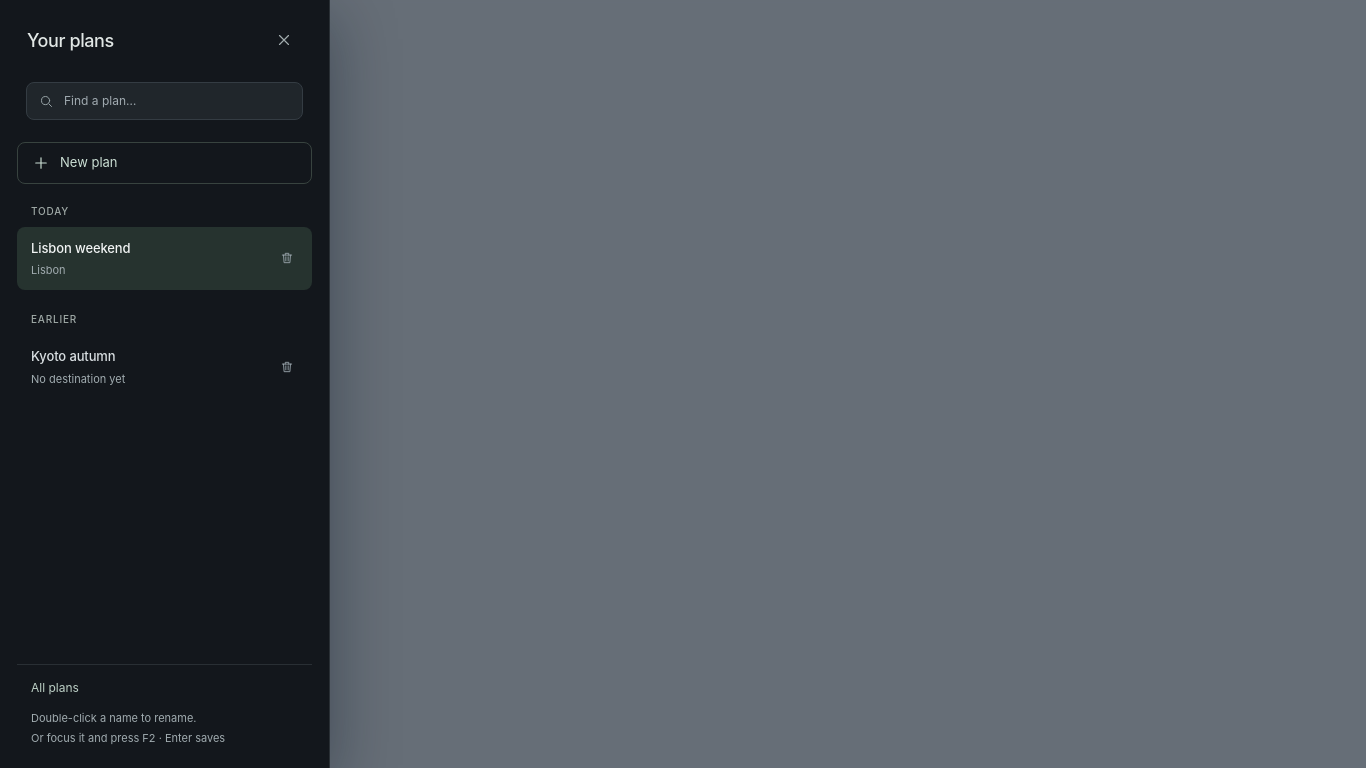
Test: expired authentication and unavailable plans never appear saved
What coordinates should you click on to do the following:
click the button named "Delete Kyoto autumn"
I would click on:
 (287, 367)
Its box is [271,345,303,389].
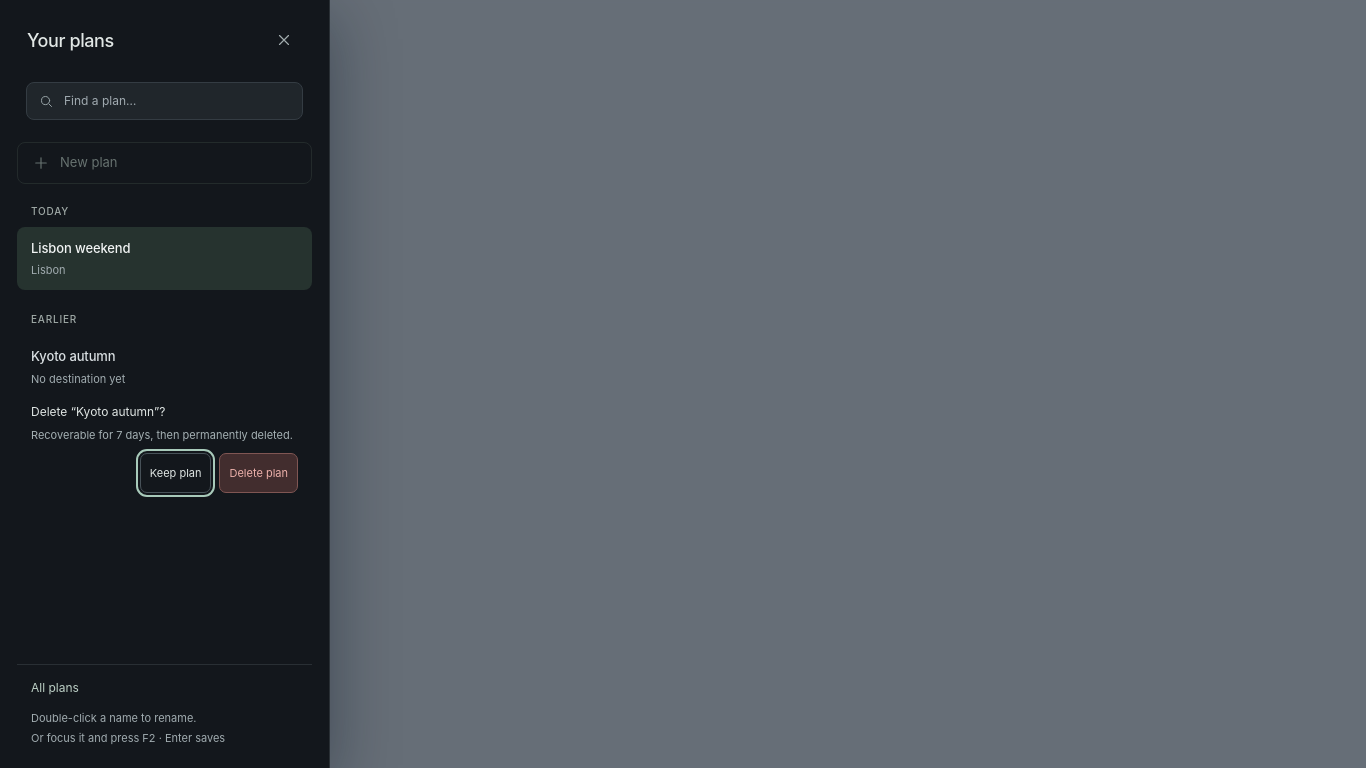
What coordinates should you click on to do the following:
click the button "Delete plan"
I would click on:
 (259, 473)
Its box is [220,453,298,493].
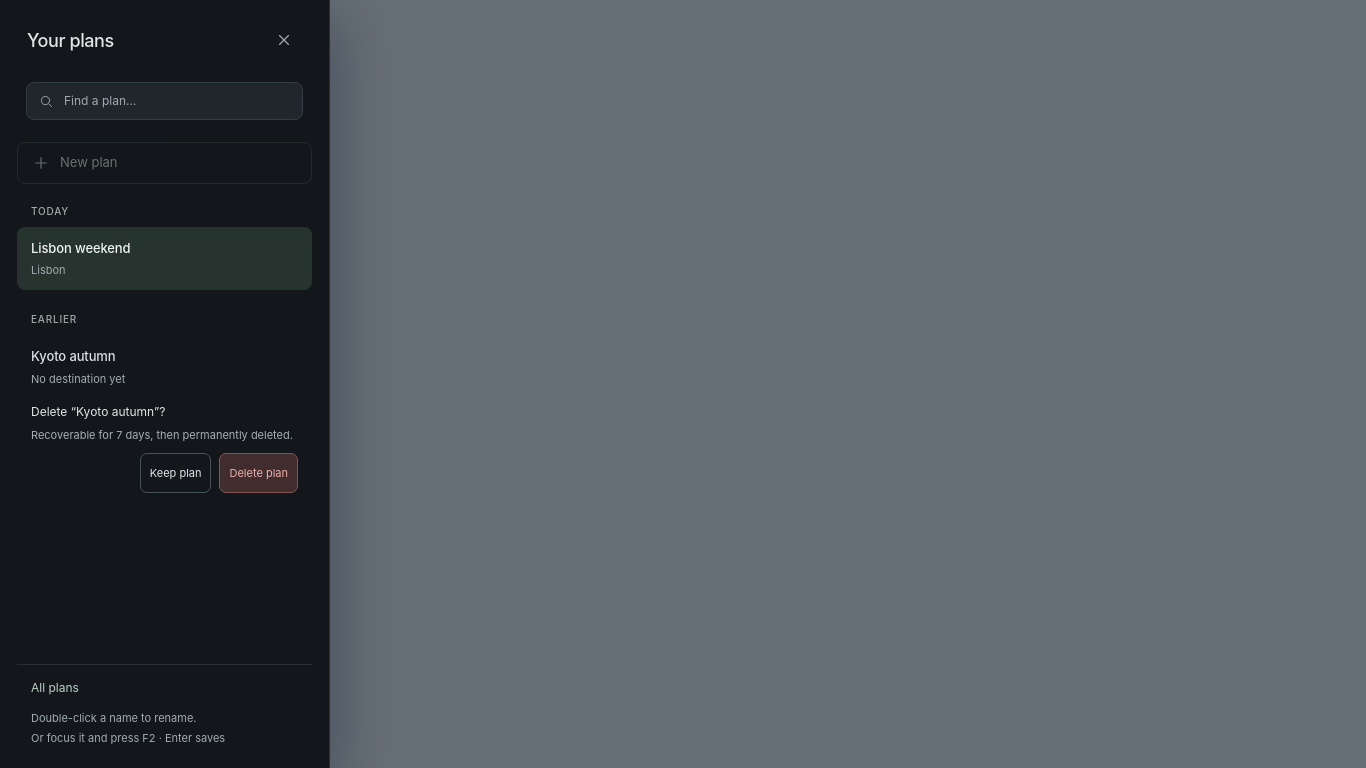
What coordinates should you click on to do the following:
click the button "Delete plan"
I would click on:
 (259, 473)
Its box is [220,453,298,493].
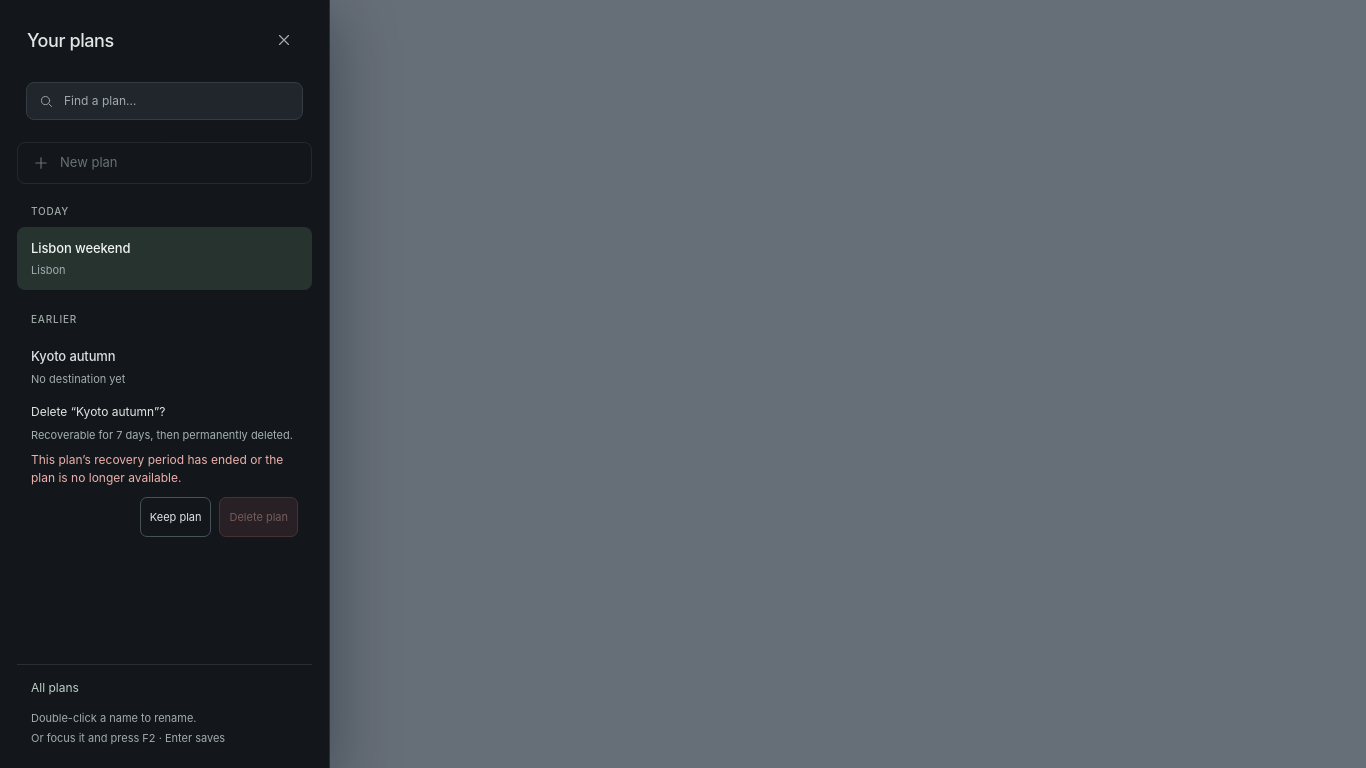
Expected: the message "This plan’s recovery period has ended or the plan is no longer available." is shown, [31,451,298,487]
Expected: the button "Delete plan" is disabled, [220,497,298,537]
